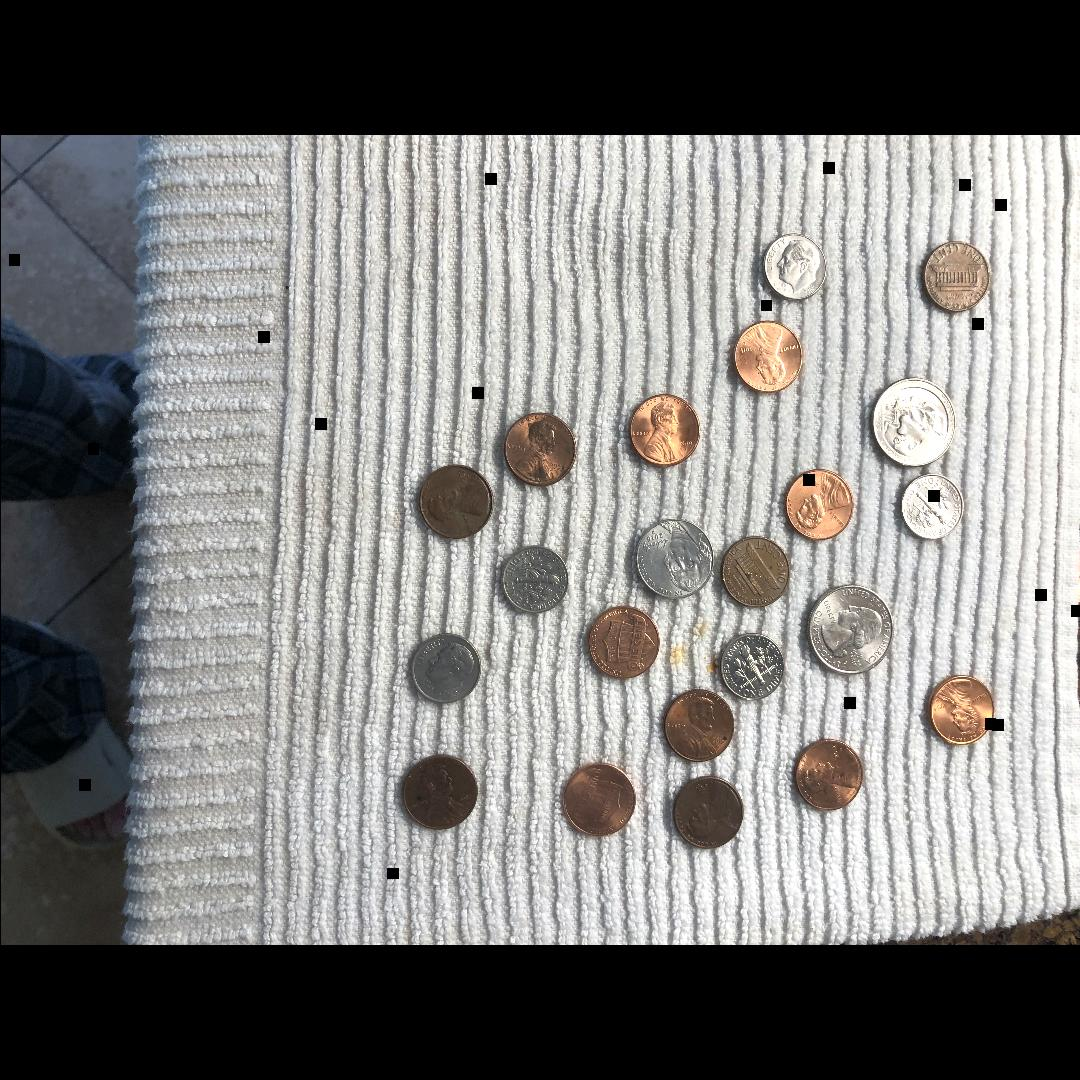Dime: (411, 634, 479, 702), (501, 548, 567, 612), (762, 235, 826, 299), (718, 635, 782, 699), (900, 474, 962, 540)
Nickel: (636, 520, 714, 598)
Penny: (418, 465, 492, 539), (402, 757, 477, 829), (585, 607, 659, 679), (562, 764, 634, 836), (672, 777, 744, 848), (503, 413, 574, 485), (732, 322, 802, 392), (629, 395, 699, 465), (784, 469, 852, 541), (663, 692, 733, 760), (922, 244, 990, 312), (721, 538, 789, 606), (794, 742, 862, 810), (929, 676, 994, 744)
Quarter: (806, 584, 892, 674), (871, 378, 954, 466)
